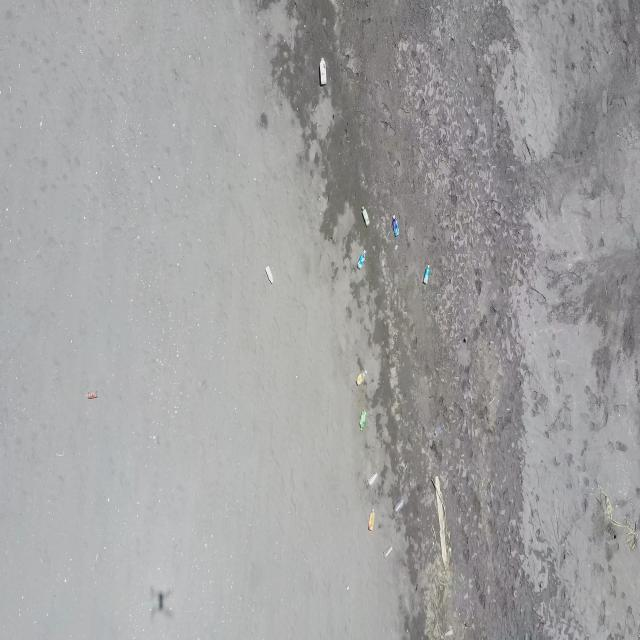plastic-bottle: (320, 57, 328, 86), (367, 508, 376, 532), (264, 265, 274, 285), (356, 250, 366, 270), (356, 368, 367, 386), (361, 206, 369, 227), (358, 410, 366, 431), (392, 216, 399, 237), (424, 264, 430, 284)
takeaway-cup: (366, 474, 376, 489), (394, 499, 404, 512), (383, 547, 393, 560)
